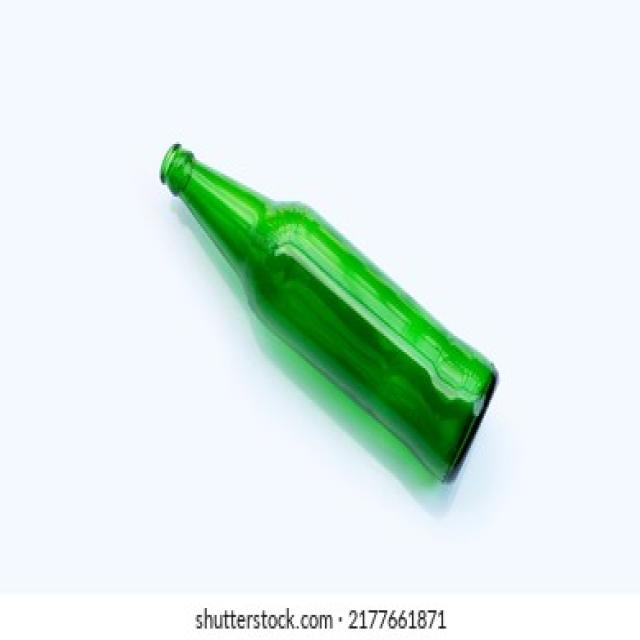glass: (139, 139, 536, 478)
